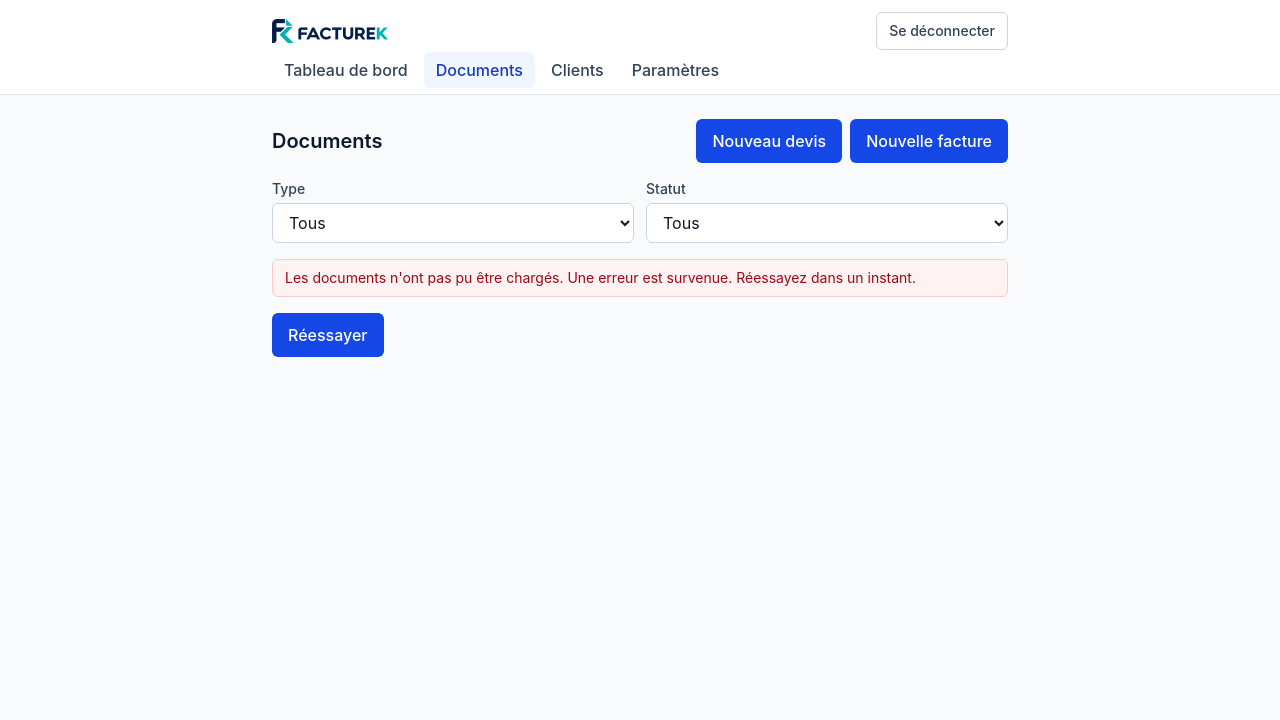
documents list › shows a French error and a retry when the list cannot be loaded
The width and height of the screenshot is (1280, 720).
expect the message shows "Les documents n'ont pas pu être chargés.": met, box [285, 269, 564, 286]
What coordinates should you click on to do the following:
click the button "Réessayer"
I would click on:
 (328, 335)
Its box is [272, 313, 384, 357].
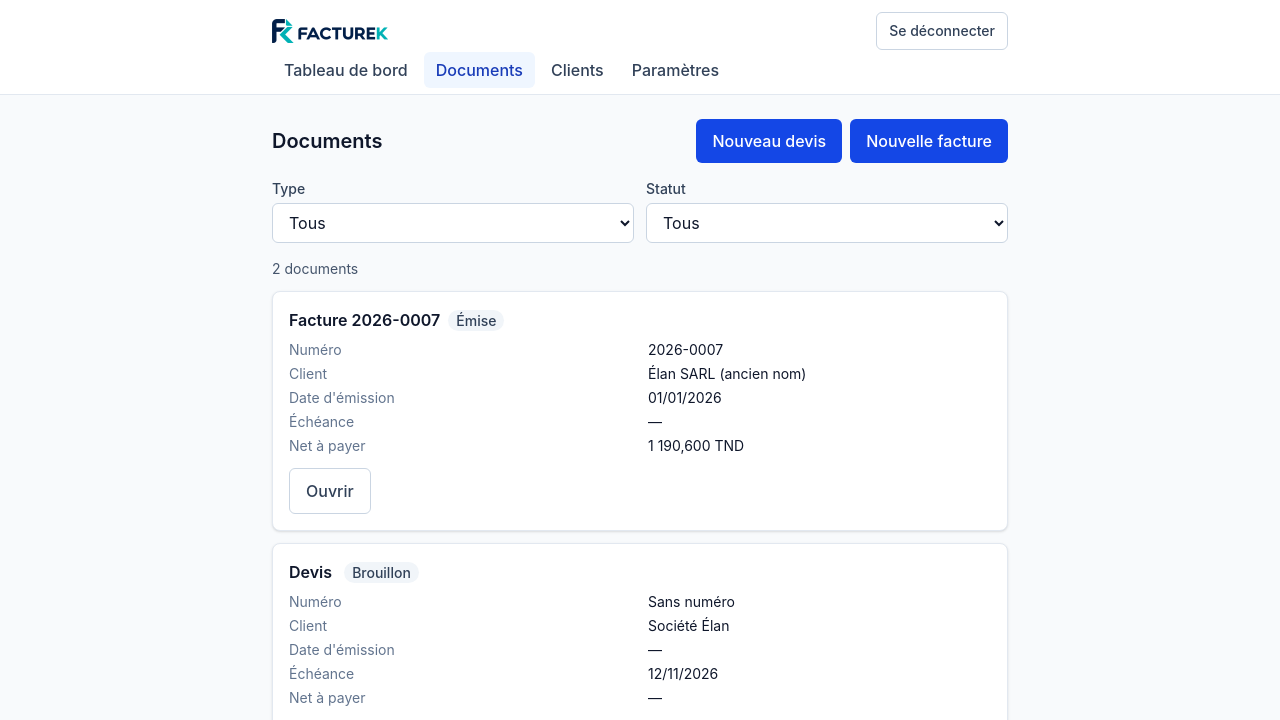
expect the text "2 documents" is shown: met, box [272, 260, 358, 277]
